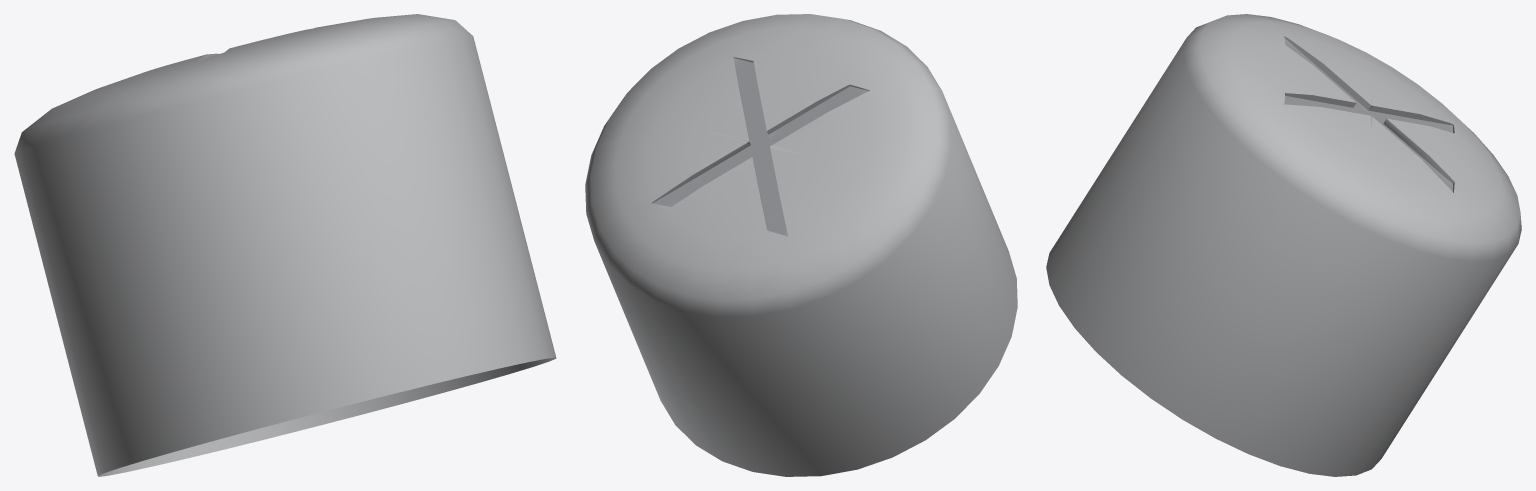
Rendered from button_x.obj.
3 renders of one model, left to right at view 1: azimuth 30°, elevation 25°; view 2: azimuth 150°, elevation 25°; view 3: azimuth 270°, elevation 25°, orthographic. The views are drawn at different scales.
Parts seen in each view (by area): view 1: button_x; view 2: button_x; view 3: button_x.
Boxes of the visible parts, bbox=[...] form: button_x: bbox=[14, 14, 556, 476]; button_x: bbox=[585, 14, 1017, 476]; button_x: bbox=[1046, 14, 1521, 476].
Size of the model in its own units: 0.00998 by 0.0113 by 0.0121.
Materials: 1 (1 with a texture image).
